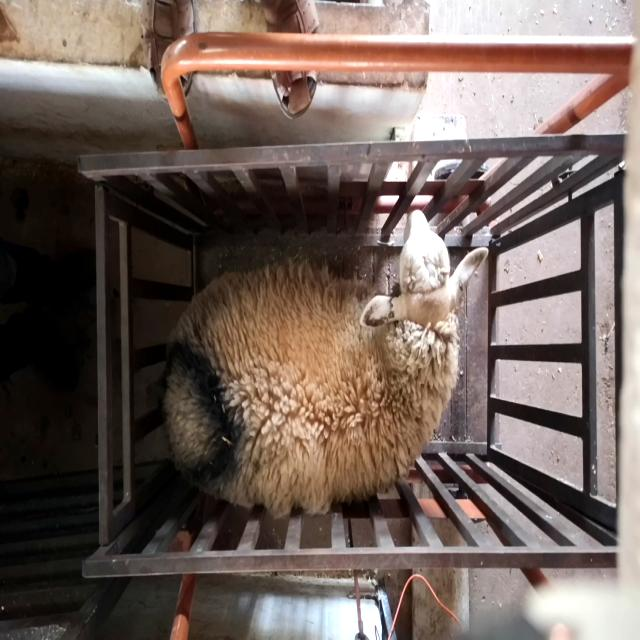sheep: (159, 210, 489, 520)
